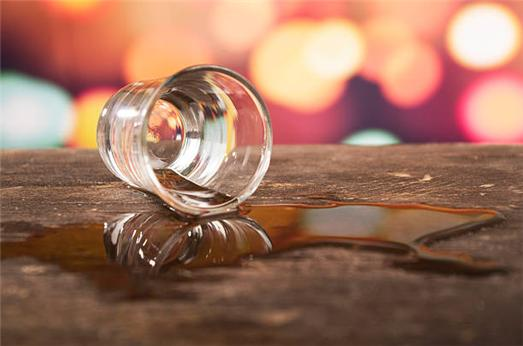alcohol: (95, 65, 274, 216)
